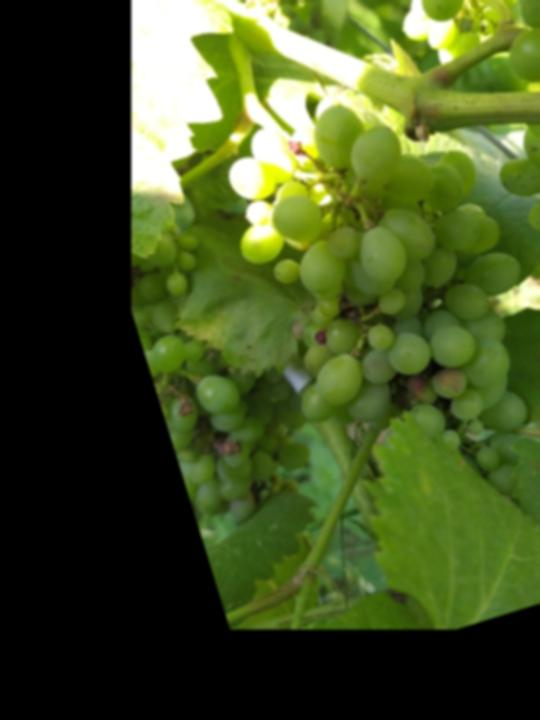grape: (203, 59, 540, 555)
